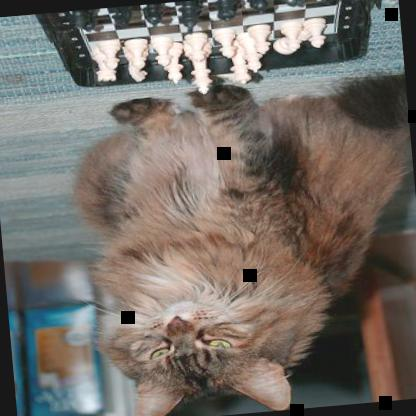cat: (71, 71, 415, 415)
